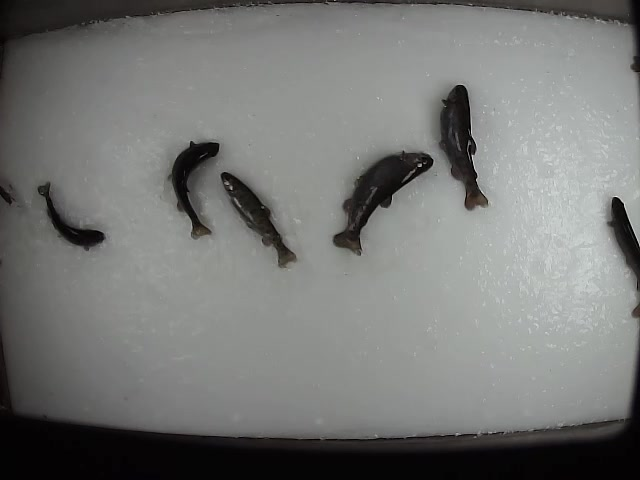fish: (330, 148, 435, 258), (219, 170, 299, 270), (437, 82, 490, 212), (163, 138, 219, 243), (37, 178, 107, 251)
